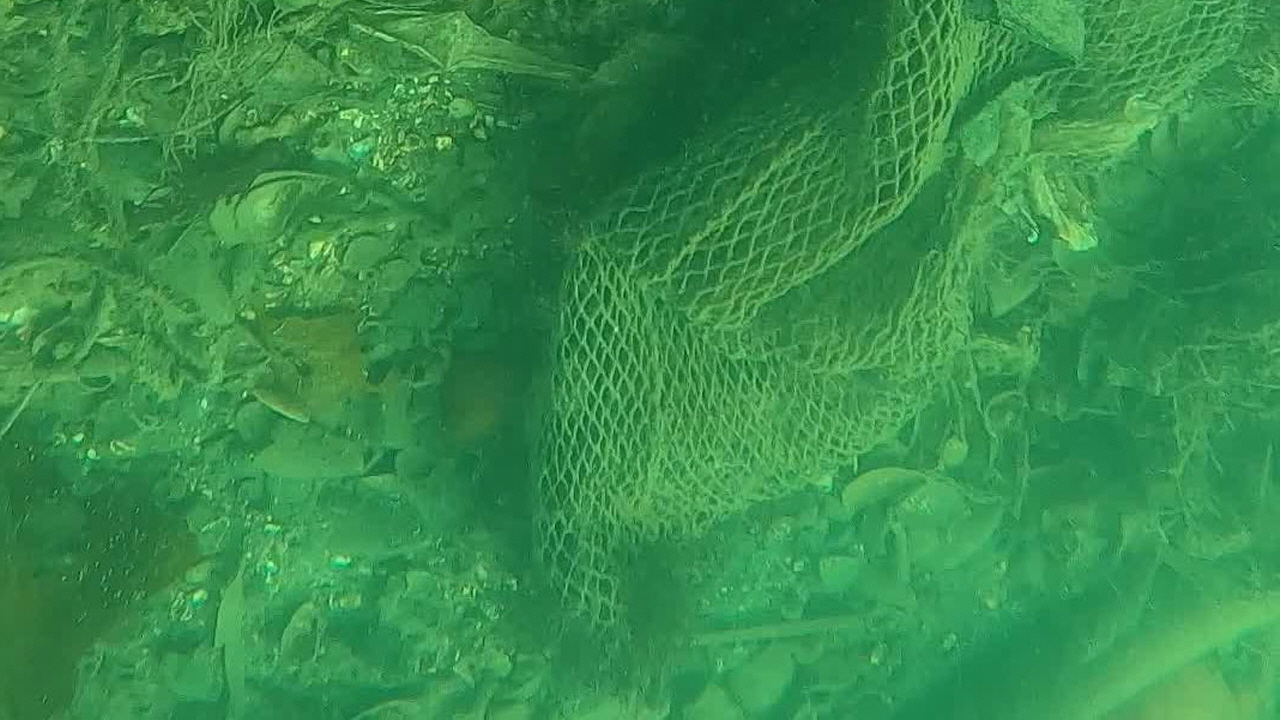fish net: (528, 0, 1280, 639)
